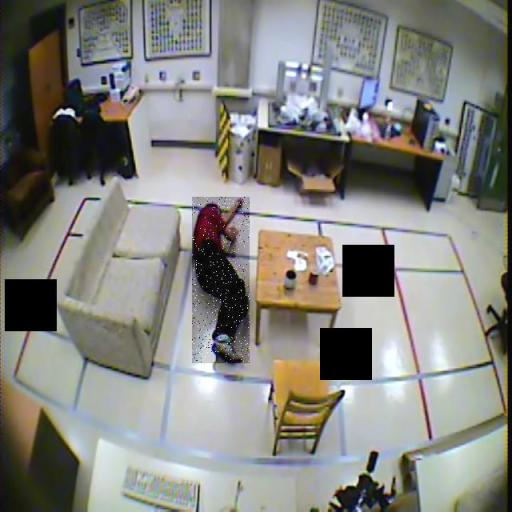Fall: (192, 198, 250, 364)
